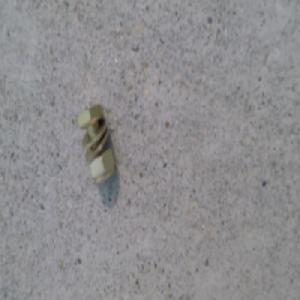BoltNutSet: (77, 103, 114, 185)
